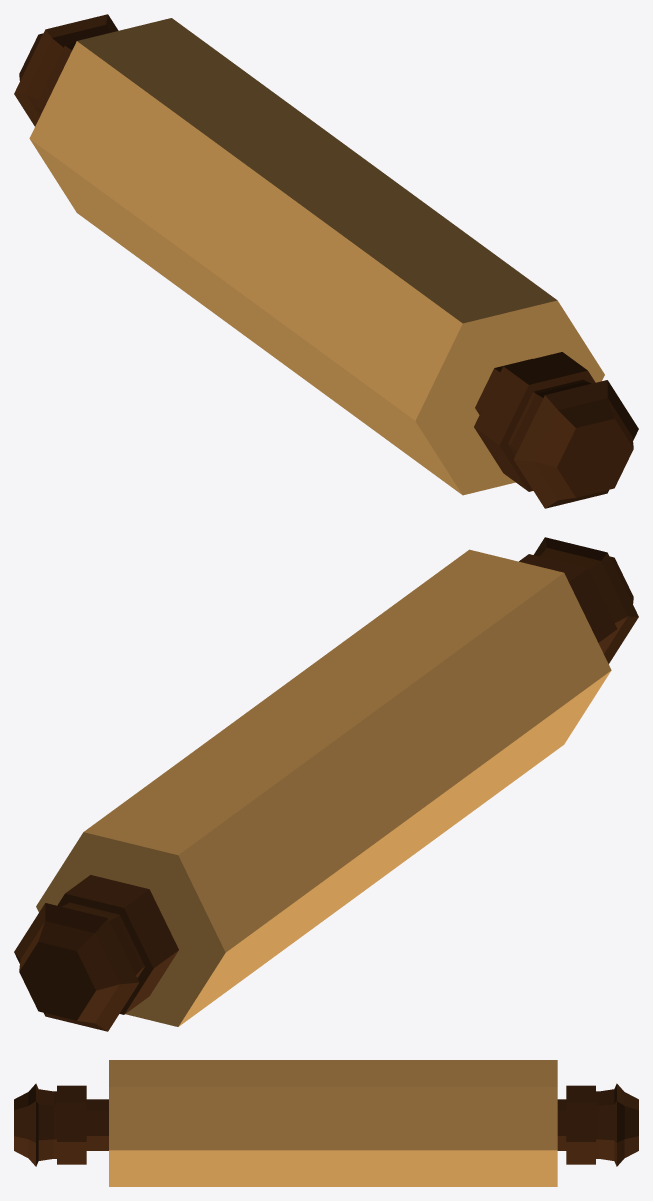
File: Scroll 2.fbx
3 renders of one model, top to bottom at view 1: azimuth 30°, elevation 25°; view 2: azimuth 150°, elevation 25°; view 3: azimuth 270°, elevation 25°, orthographic. The views are drawn at different scales.
Parts seen in each view (by area): view 1: Node 0; view 2: Node 0; view 3: Node 0.
Boxes of the visible parts, x1,y1,x2,y2 form: Node 0: (14,14,638,508); Node 0: (14,537,638,1031); Node 0: (14,1060,638,1186).
Bounding box in the file's own units: 0.9354 × 0.165 × 0.1905.
